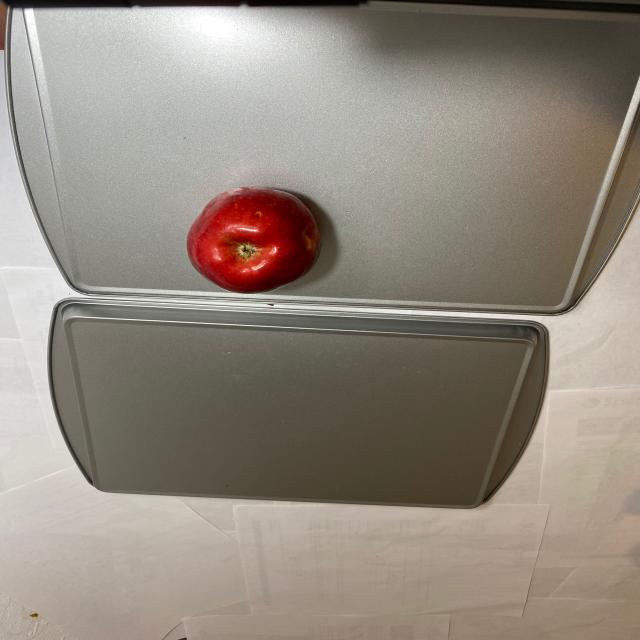Apple: (187, 185, 321, 294)
